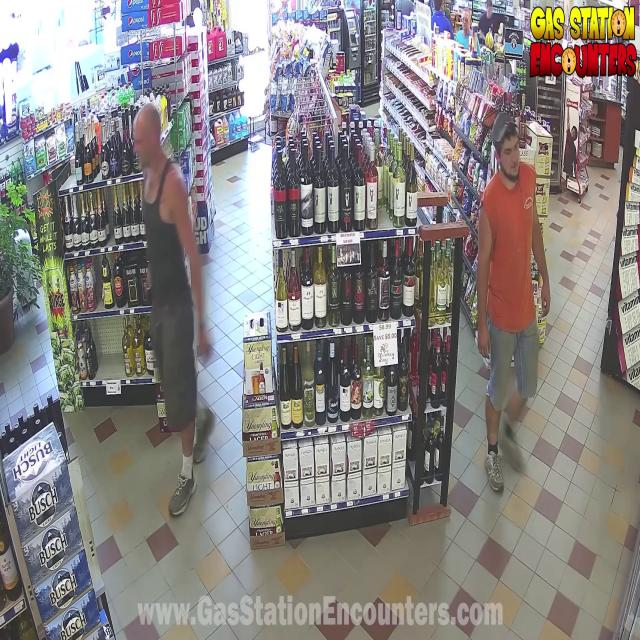normal: (105, 87, 236, 518), (460, 93, 571, 507)
